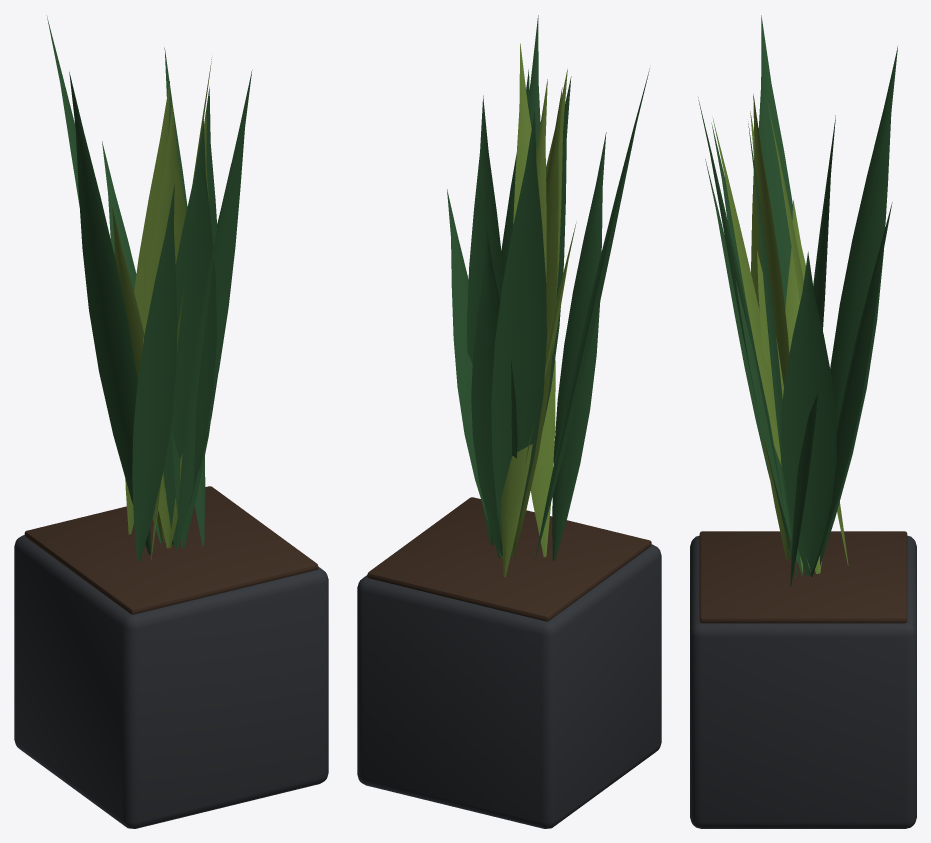
Rendered from plant_snake.glb.
The picture shows the model from 3 angles, left to right: view 1: azimuth 30°, elevation 25°; view 2: azimuth 150°, elevation 25°; view 3: azimuth 270°, elevation 25°; orthographic projection. The views are drawn at different scales.
Parts seen in each view (by area): view 1: box, box.001, leaf.002, leaf.013, leaf.010, leaf.011, leaf.003, leaf.012, leaf.001, leaf.006, leaf.008, leaf.004 (+1 smaller); view 2: box, box.001, leaf.005, leaf.010, leaf.008, leaf.004, leaf.002, leaf, leaf.007, leaf.003, leaf.012, leaf.013 (+4 smaller); view 3: box, box.001, leaf.007, leaf.005, leaf, leaf.008, leaf.002, leaf.004, leaf.009, leaf.013, leaf.011, leaf.001 (+4 smaller).
Part boxes in pixels (x1,y1,x2,y2): box: [14, 535, 328, 828]; box.001: [24, 486, 318, 614]; leaf.002: [69, 72, 150, 554]; leaf.013: [163, 121, 216, 546]; leaf.010: [132, 184, 177, 561]; leaf.011: [176, 70, 252, 549]; leaf.003: [143, 103, 186, 548]; leaf.012: [125, 81, 169, 534]; leaf.001: [172, 87, 217, 547]; leaf.006: [112, 207, 165, 541]; leaf.008: [102, 141, 136, 290]; leaf.004: [164, 47, 205, 545]; box: [357, 544, 661, 828]; box.001: [367, 497, 651, 621]; leaf.005: [491, 111, 546, 542]; leaf.010: [552, 132, 606, 560]; leaf.008: [471, 228, 517, 557]; leaf.004: [466, 95, 503, 545]; leaf.002: [535, 68, 649, 559]; leaf: [513, 43, 555, 557]; leaf.007: [447, 189, 501, 557]; leaf.003: [512, 87, 562, 556]; leaf.012: [501, 79, 547, 577]; leaf.013: [543, 76, 571, 427]; box: [690, 535, 916, 828]; box.001: [699, 531, 907, 623]; leaf.007: [780, 251, 836, 575]; leaf.005: [820, 46, 897, 565]; leaf: [751, 94, 790, 560]; leaf.008: [811, 202, 892, 576]; leaf.002: [758, 15, 797, 562]; leaf.004: [790, 115, 835, 586]; leaf.009: [713, 119, 810, 571]; leaf.013: [711, 123, 802, 576]; leaf.011: [698, 97, 795, 574]; leaf.001: [748, 121, 796, 577].
Size of the model in its own units: 26.57 by 83.2 by 24.
